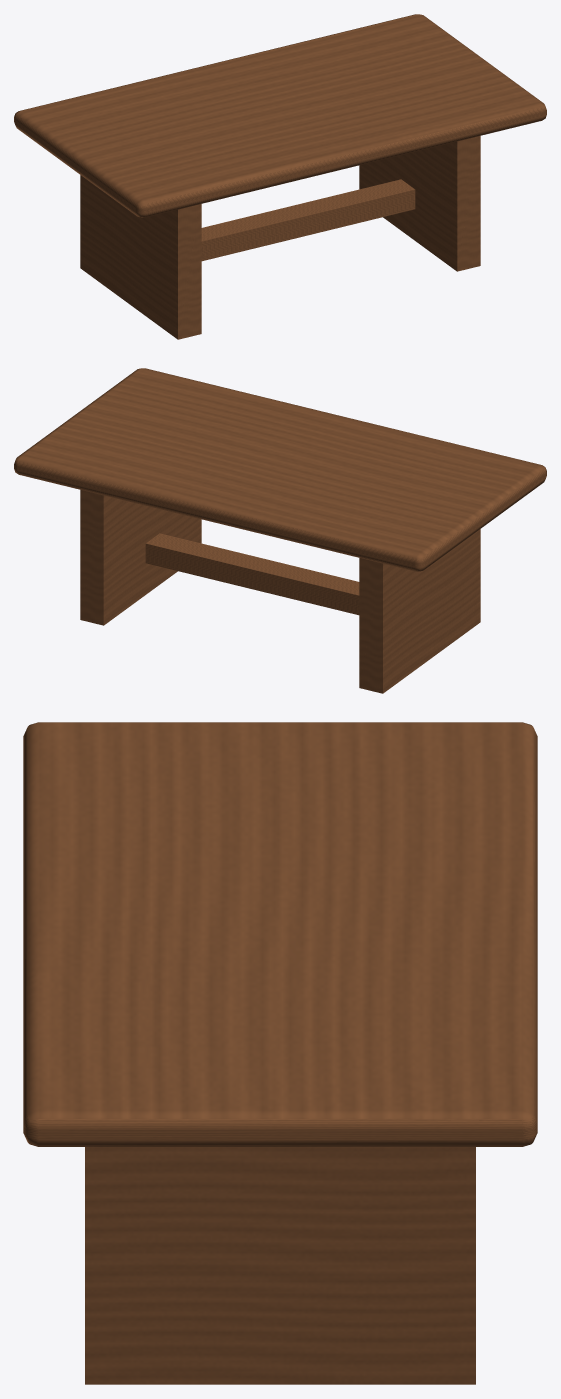
The model's file is coffee_table_engawa-26ea64a35ac3.glb.
3 views of the same model, one above another, from view 1: azimuth 30°, elevation 25°; view 2: azimuth 150°, elevation 25°; view 3: azimuth 270°, elevation 25° (orthographic). The views are drawn at different scales.
Parts seen in each view (by area): view 1: surface_walnut; view 2: surface_walnut; view 3: surface_walnut.
Part boxes in pixels (bbox=[...]): surface_walnut: bbox=[14, 14, 546, 339]; surface_walnut: bbox=[14, 368, 546, 693]; surface_walnut: bbox=[23, 722, 537, 1384].
Bounding box in the file's own units: 1.05 × 0.39 × 0.5677.
1 material, 1 textured.
